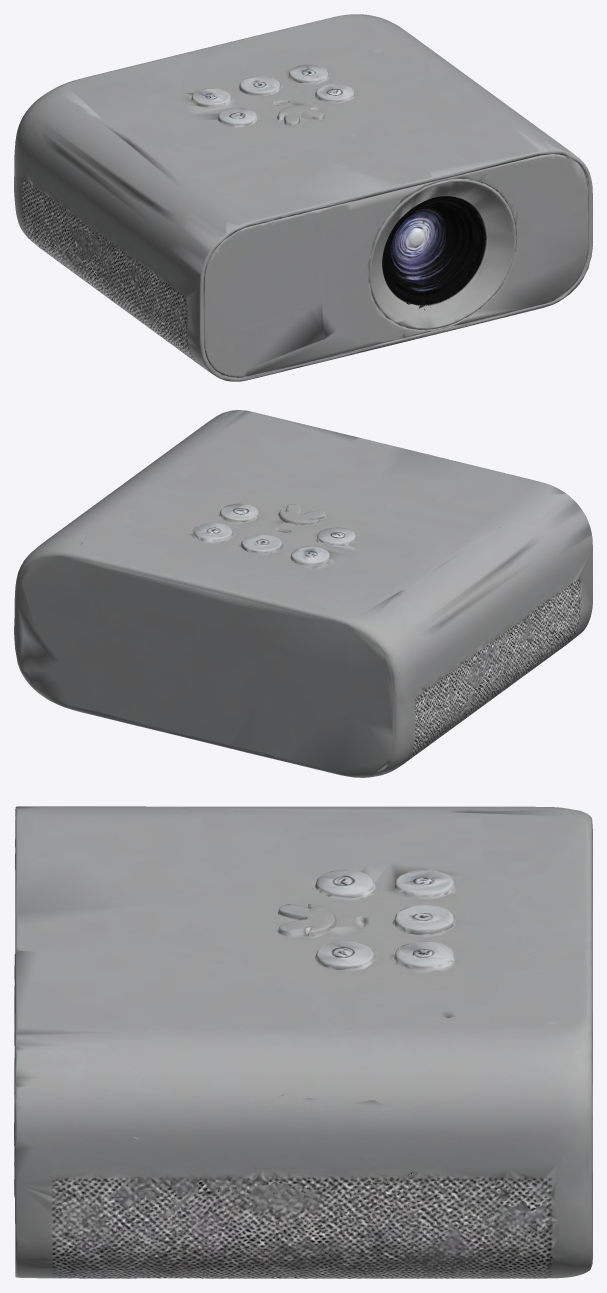
The model's file is projector.glb.
3 renders of one model, top to bottom at view 1: azimuth 30°, elevation 25°; view 2: azimuth 150°, elevation 25°; view 3: azimuth 270°, elevation 25°, orthographic. The views are drawn at different scales.
Visible parts, largest first — view 1: node_0; view 2: node_0; view 3: node_0.
Boxes of the visible parts, x1,y1,x2,y2 form: node_0: (14,14,592,381); node_0: (14,410,592,777); node_0: (14,806,592,1278).
Size of the model in its own units: 0.912 by 0.3569 by 0.7691.
1 material, 1 textured.
